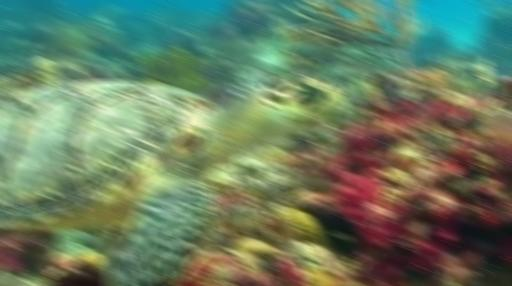Fish: (0, 79, 344, 285)
